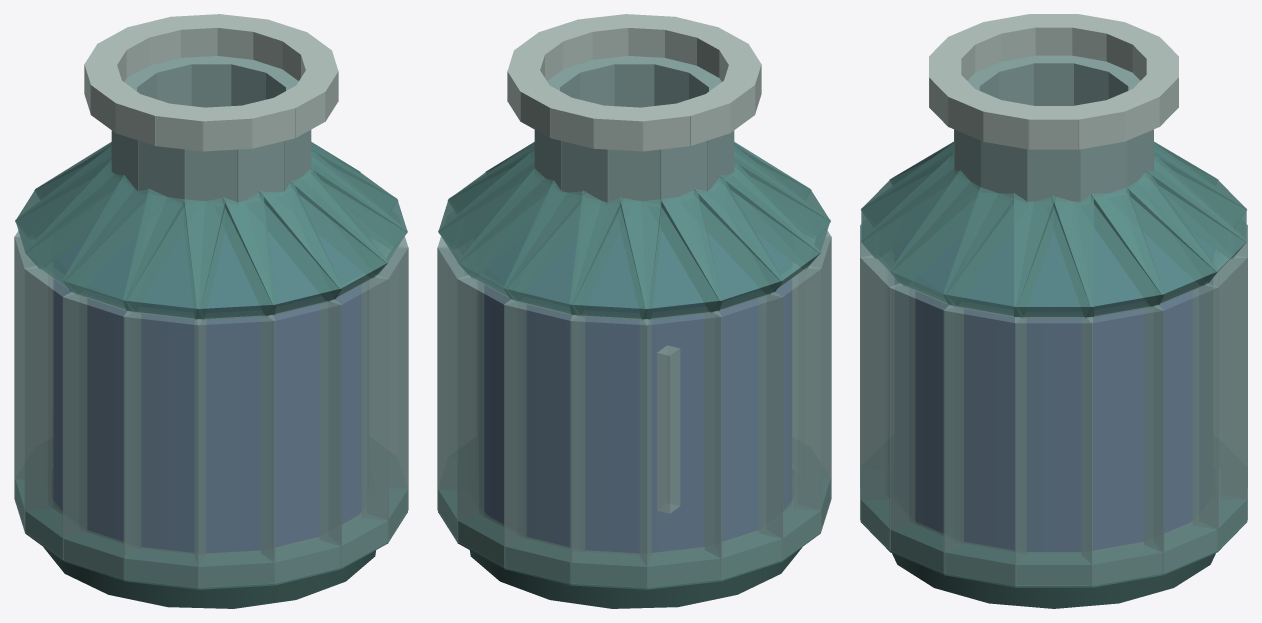
Rendered from CMU3DBottleDexalinCloud.glb.
3 views of the same model, side by side, from view 1: azimuth 30°, elevation 25°; view 2: azimuth 150°, elevation 25°; view 3: azimuth 270°, elevation 25° (orthographic).
Visible parts, largest first — view 1: static liquid volume level 5, hollow bottle wall 11, hollow bottle wall 12, hollow bottle wall 13, hollow bottle wall 10, hollow bottle wall 14, hollow bottle wall 09, hollow bottle wall 15, inward glass shoulder 11, inward glass shoulder 13, inward glass shoulder 12, hollow bottle wall 08 (+45 smaller); view 2: static liquid volume level 5, hollow bottle wall 07, hollow bottle wall 06, hollow bottle wall 05, hollow bottle wall 08, hollow bottle wall 04, hollow bottle wall 09, hollow bottle wall 03, inward glass shoulder 07, inward glass shoulder 05, inward glass shoulder 06, hollow bottle wall 10 (+46 smaller); view 3: static liquid volume level 5, hollow bottle wall 02, hollow bottle wall 16, hollow bottle wall 01, hollow bottle wall 03, hollow bottle wall 15, hollow bottle wall 04, hollow bottle wall 14, inward glass shoulder 02, inward glass shoulder 16, inward glass shoulder 01, inward glass shoulder 03 (+43 smaller).
Boxes of the visible parts, x1,y1,x2,y2 form: static liquid volume level 5: [54, 279, 360, 552]; hollow bottle wall 11: [123, 310, 205, 587]; hollow bottle wall 12: [194, 314, 275, 587]; hollow bottle wall 13: [261, 299, 341, 583]; hollow bottle wall 10: [62, 292, 140, 579]; hollow bottle wall 14: [319, 275, 388, 567]; hollow bottle wall 09: [24, 265, 86, 559]; hollow bottle wall 15: [362, 246, 408, 541]; inward glass shoulder 11: [123, 188, 226, 320]; inward glass shoulder 13: [222, 180, 342, 316]; inward glass shoulder 12: [184, 190, 276, 320]; hollow bottle wall 08: [14, 236, 51, 531]; static liquid volume level 5: [485, 279, 791, 552]; hollow bottle wall 07: [640, 310, 722, 587]; hollow bottle wall 06: [570, 314, 651, 587]; hollow bottle wall 05: [504, 299, 584, 583]; hollow bottle wall 08: [705, 292, 783, 579]; hollow bottle wall 04: [457, 275, 526, 567]; hollow bottle wall 09: [759, 265, 821, 559]; hollow bottle wall 03: [437, 246, 483, 541]; inward glass shoulder 07: [619, 188, 722, 320]; inward glass shoulder 05: [503, 180, 623, 316]; inward glass shoulder 06: [569, 190, 661, 320]; hollow bottle wall 10: [794, 236, 831, 531]; static liquid volume level 5: [895, 279, 1212, 551]; hollow bottle wall 02: [1081, 305, 1164, 585]; hollow bottle wall 16: [943, 305, 1026, 585]; hollow bottle wall 01: [1015, 315, 1092, 585]; hollow bottle wall 03: [1144, 283, 1218, 573]; hollow bottle wall 15: [889, 283, 963, 573]; hollow bottle wall 04: [1193, 255, 1247, 550]; hollow bottle wall 14: [860, 255, 914, 550]; inward glass shoulder 02: [1052, 187, 1164, 318]; inward glass shoulder 16: [943, 187, 1055, 318]; inward glass shoulder 01: [1014, 193, 1093, 317]; inward glass shoulder 03: [1091, 170, 1218, 307].
Size of the model in its own units: 0.3384 by 0.453 by 0.3384.
